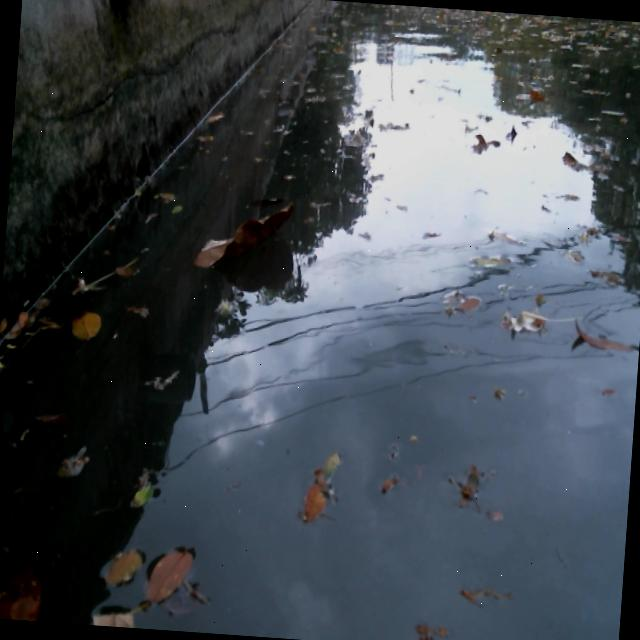Big-leaf: (187, 187, 299, 278)
Small-leaf: (138, 537, 207, 611), (567, 307, 640, 358), (0, 559, 53, 622), (98, 535, 149, 597), (497, 295, 553, 336), (64, 300, 108, 348), (296, 478, 329, 531), (559, 146, 600, 180), (54, 452, 94, 482), (109, 258, 145, 284), (324, 439, 345, 483), (480, 502, 512, 529), (474, 125, 505, 152), (34, 403, 66, 426), (519, 78, 546, 105), (379, 468, 404, 496), (203, 103, 231, 126), (152, 181, 180, 204), (503, 114, 526, 141), (454, 292, 484, 312), (169, 196, 186, 219)
